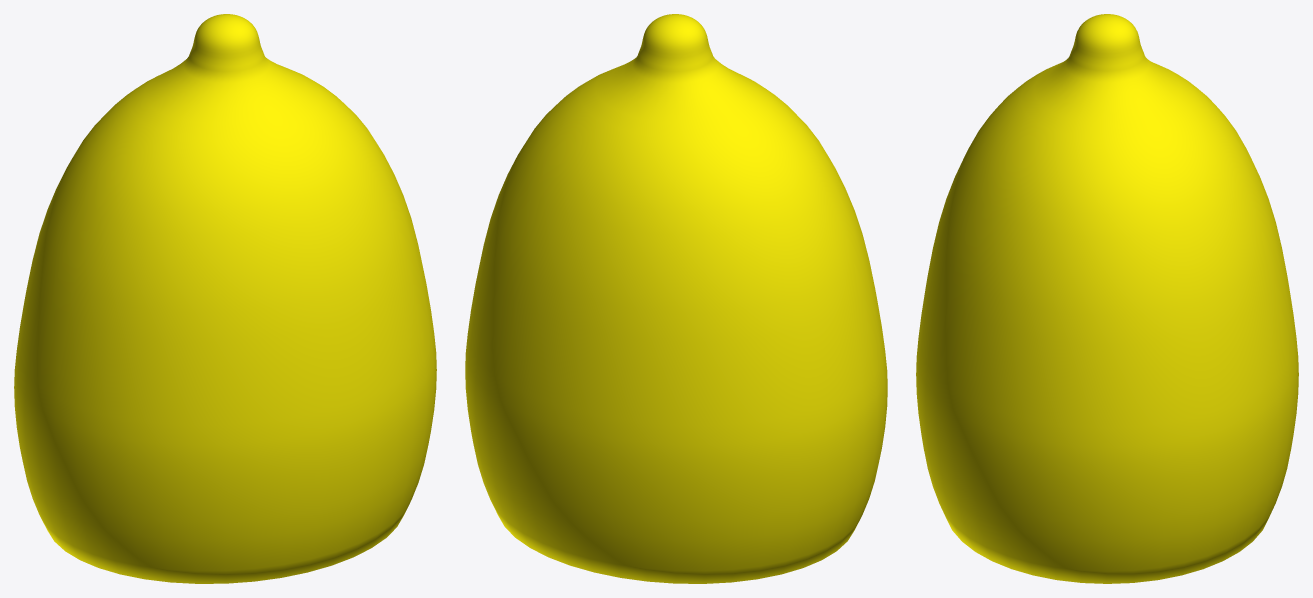
Rendered from CabezaLimonagrio_obj.obj.
3 renders of one model, left to right at view 1: azimuth 30°, elevation 25°; view 2: azimuth 150°, elevation 25°; view 3: azimuth 270°, elevation 25°, orthographic.
Visible parts, largest first — view 1: Cabeza; view 2: Cabeza; view 3: Cabeza.
Boxes of the visible parts, x1,y1,x2,y2 form: Cabeza: [14, 14, 436, 583]; Cabeza: [465, 14, 887, 583]; Cabeza: [916, 14, 1298, 583].
Bounding box in the file's own units: 2.67 × 3.46 × 2.38.
